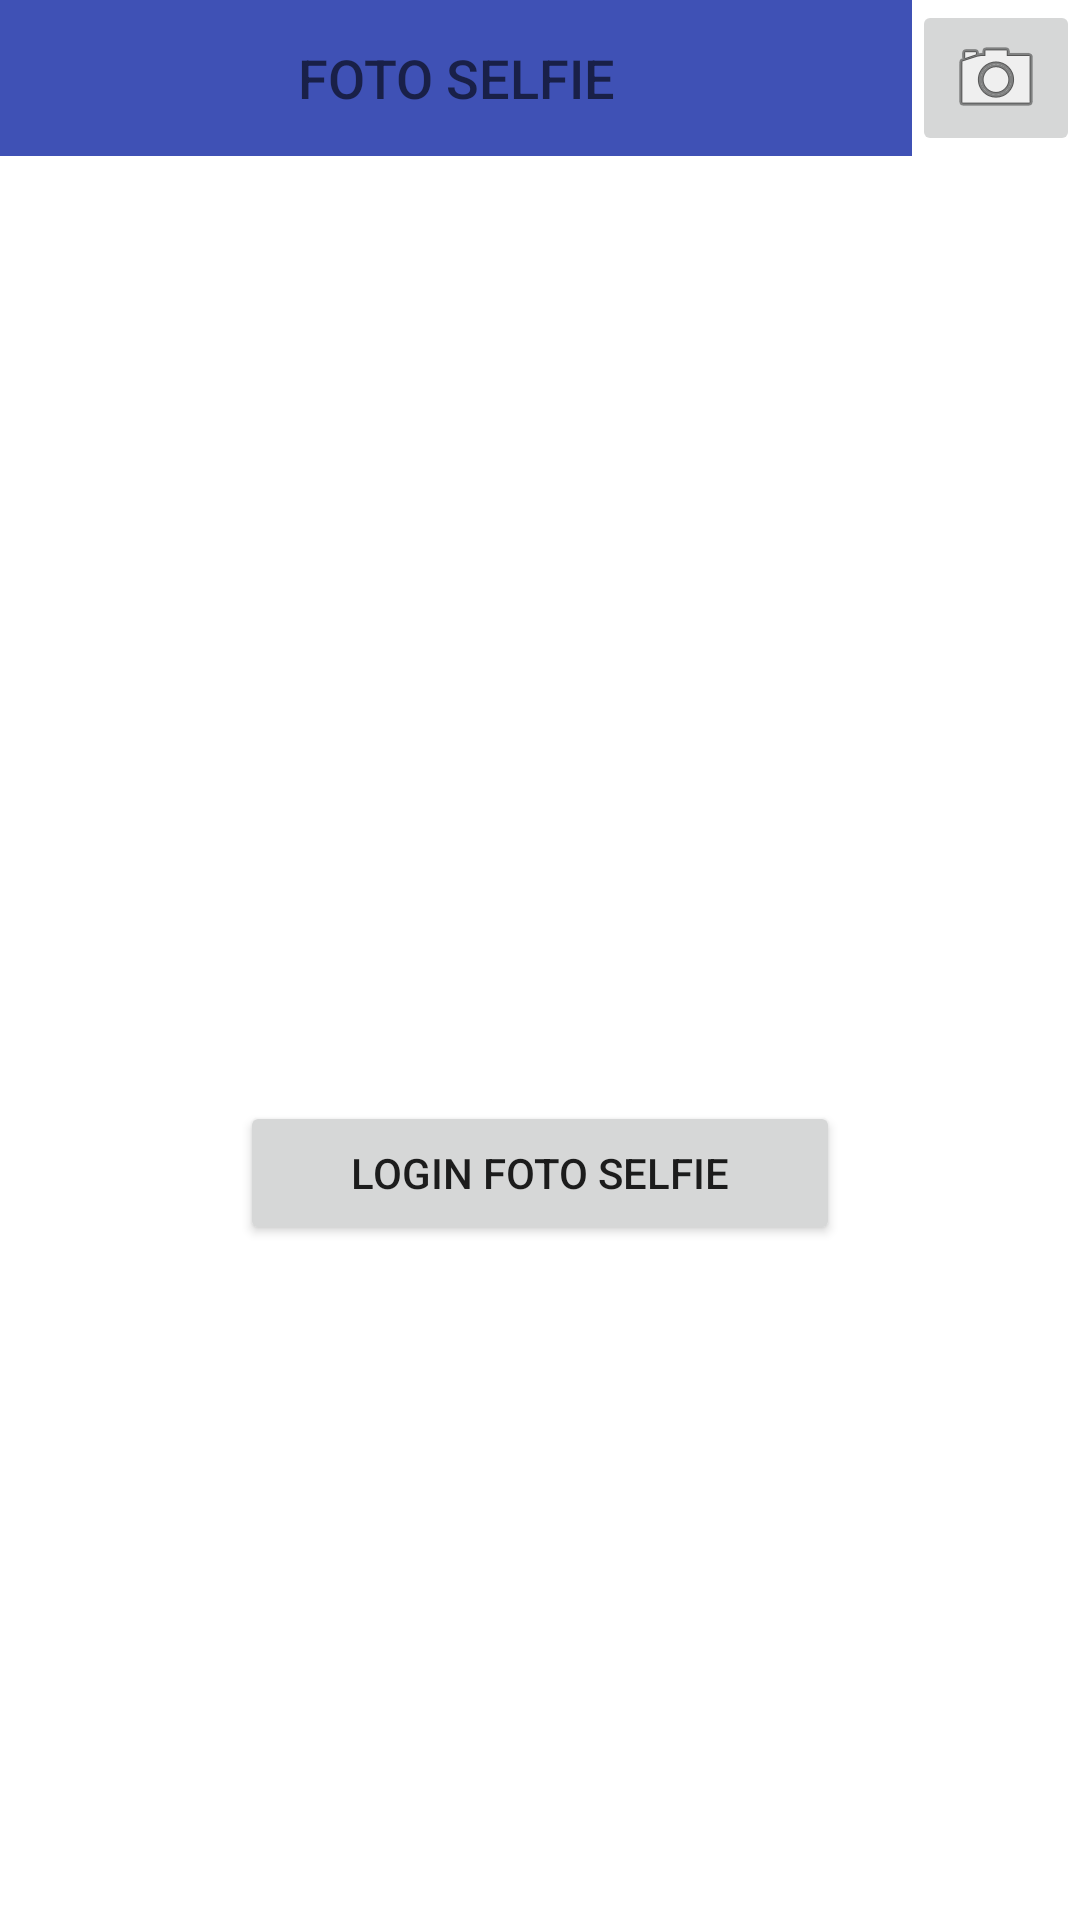

Screen size 1080x1920. Icon name, then its center in pixels as point (x, y):
camera: point (996, 78)
